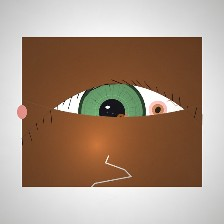foreign_body_visible: (112, 111, 130, 125)
